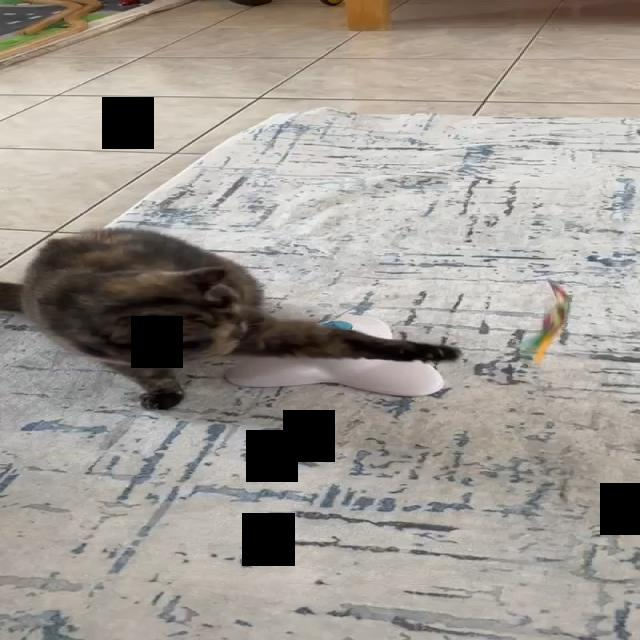authorized: (0, 226, 461, 410)
